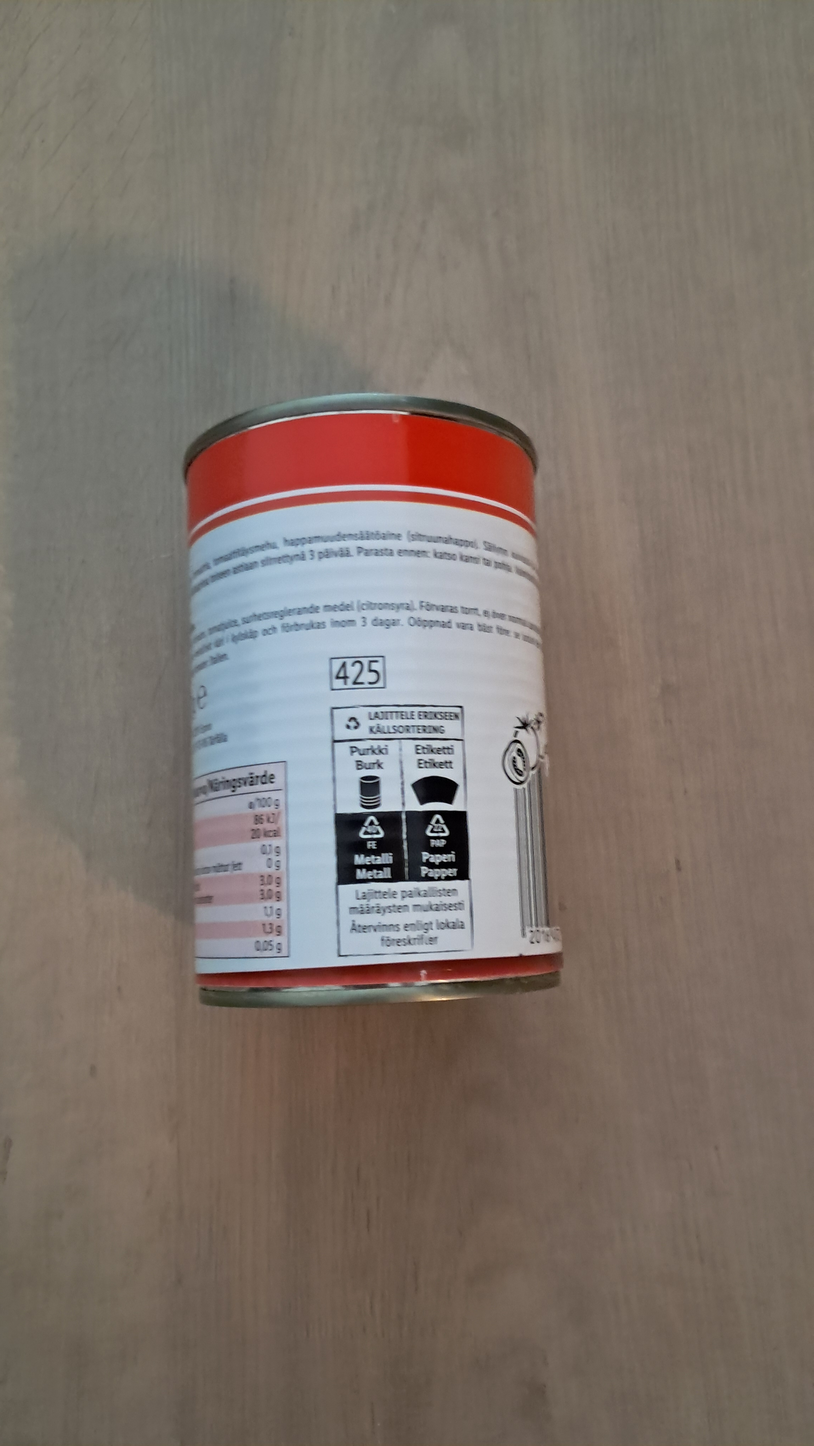Konservburk: (181, 393, 562, 1007)
